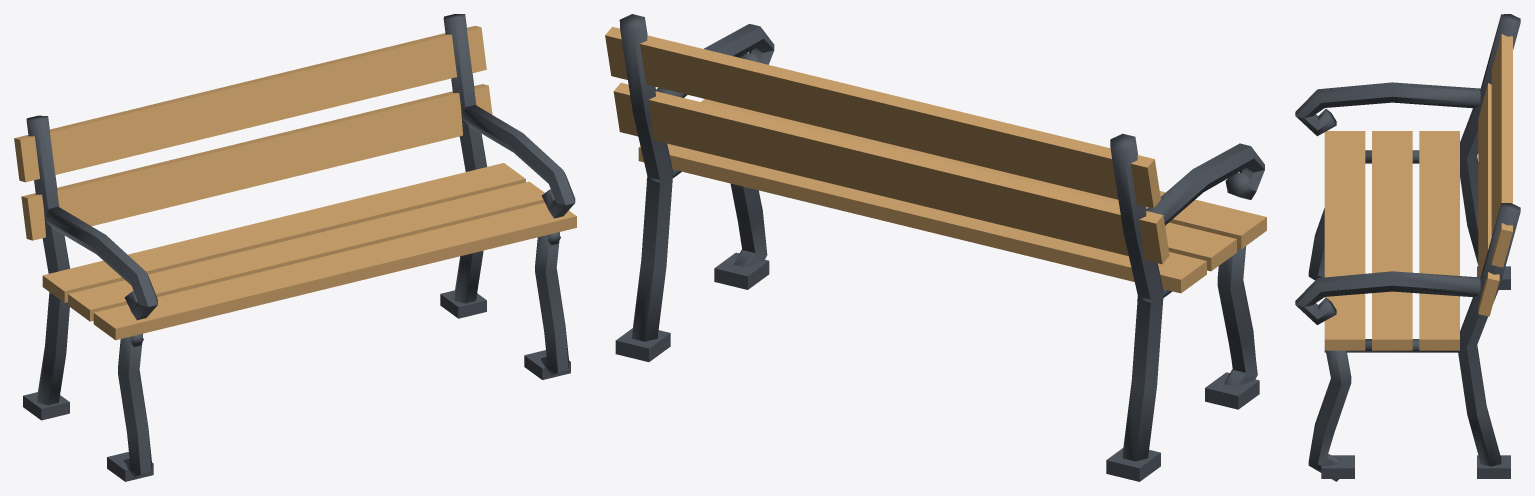
File: bench.lod1.glb
The picture shows the model from 3 angles, left to right: view 1: azimuth 30°, elevation 25°; view 2: azimuth 150°, elevation 25°; view 3: azimuth 270°, elevation 25°; orthographic projection. The views are drawn at different scales.
Parts seen in each view (by area): view 1: bench_lod1; view 2: bench_lod1; view 3: bench_lod1.
Part boxes in pixels (x1,y1,x2,y2): bench_lod1: [14, 14, 576, 481]; bench_lod1: [605, 14, 1266, 481]; bench_lod1: [1295, 14, 1520, 481].
Bounding box in the file's own units: 1.46 × 0.8927 × 0.6645.
